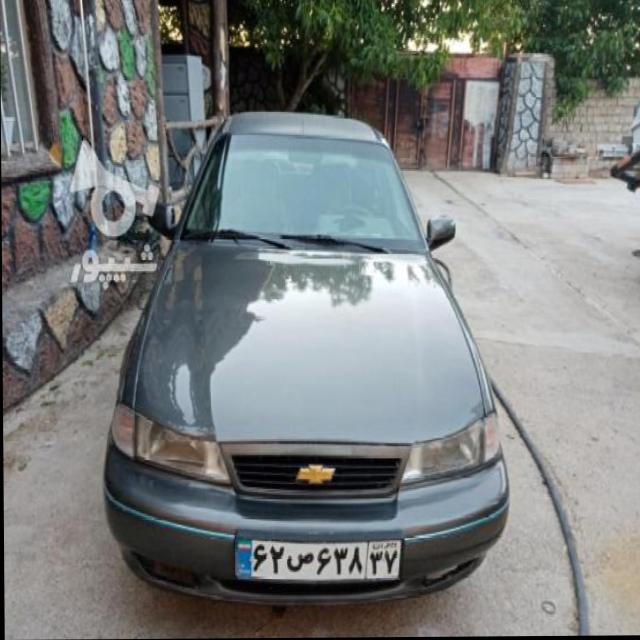licence: (233, 536, 400, 582)
